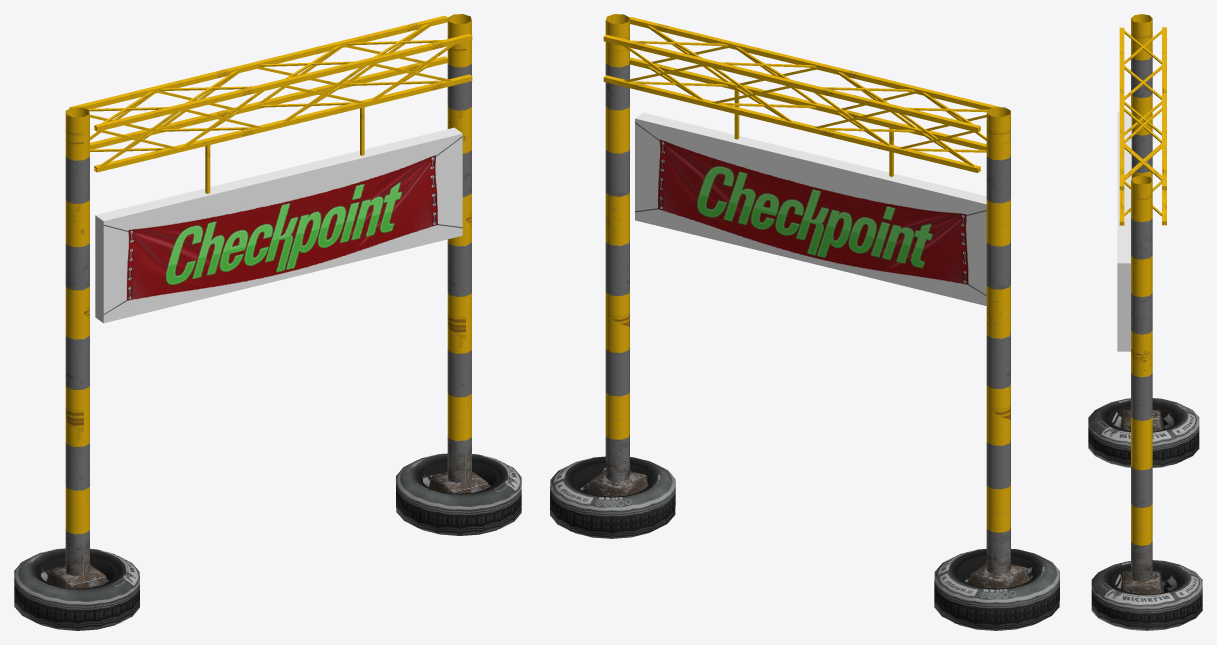
The model's file is Checkpoint-3.FBX.
The picture shows the model from 3 angles, left to right: view 1: azimuth 30°, elevation 25°; view 2: azimuth 150°, elevation 25°; view 3: azimuth 270°, elevation 25°; orthographic projection. The views are drawn at different scales.
Parts seen in each view (by area): view 1: Pole_1, Tier__21_, Tier__18_; view 2: Pole_1, Tier__18_, Tier__21_; view 3: Pole_1, Tier__21_, Tier__18_.
Boxes of the visible parts, x1,y1,x2,y2 form: Pole_1: (46, 14, 488, 588); Tier__21_: (396, 453, 521, 535); Tier__18_: (14, 548, 139, 630); Pole_1: (587, 14, 1029, 588); Tier__18_: (934, 548, 1059, 630); Tier__21_: (550, 456, 675, 538); Pole_1: (1117, 14, 1166, 594); Tier__21_: (1091, 560, 1202, 630); Tier__18_: (1088, 398, 1199, 467).
Bounding box in the file's own units: 506 × 489 × 117.
1 material, 1 textured.
